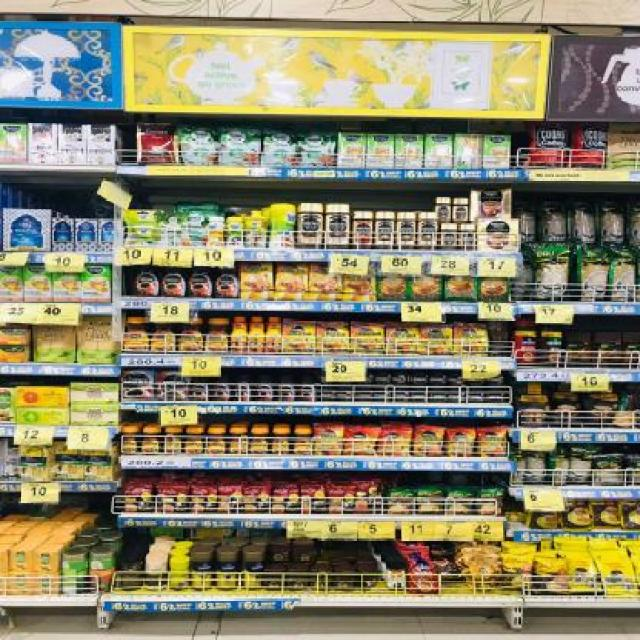Coffee: (239, 262, 273, 300), (275, 262, 308, 301), (309, 262, 342, 300), (342, 266, 376, 302), (298, 203, 324, 249), (283, 320, 315, 352), (387, 324, 419, 356), (326, 204, 349, 248), (151, 318, 178, 353), (317, 322, 348, 352), (124, 317, 150, 352), (456, 325, 486, 355), (352, 323, 383, 352), (420, 326, 452, 354), (378, 428, 410, 455), (179, 318, 204, 352), (123, 371, 152, 400), (158, 373, 190, 399), (414, 427, 443, 455), (133, 264, 158, 296), (316, 424, 342, 454), (160, 266, 186, 296), (215, 267, 239, 299), (479, 429, 506, 457), (346, 428, 374, 454), (396, 212, 416, 248), (189, 268, 213, 298), (206, 320, 228, 352), (448, 429, 474, 456), (375, 212, 394, 248), (418, 212, 437, 248), (230, 317, 247, 354), (265, 316, 281, 353), (292, 428, 313, 454), (249, 316, 263, 352), (228, 429, 248, 454), (163, 428, 182, 454), (439, 224, 458, 250), (212, 376, 232, 400), (206, 429, 225, 454), (142, 428, 160, 454), (272, 428, 290, 454), (184, 429, 203, 453), (251, 429, 269, 454), (297, 376, 315, 401), (459, 225, 476, 250), (233, 375, 250, 400), (121, 428, 137, 454), (436, 197, 452, 223), (452, 198, 468, 224), (256, 376, 273, 400), (278, 376, 294, 401), (192, 377, 208, 400), (354, 389, 374, 400), (392, 390, 410, 401), (450, 373, 466, 385), (488, 374, 504, 386), (430, 374, 448, 384), (337, 388, 352, 400), (412, 373, 428, 384), (450, 391, 466, 402), (429, 392, 448, 401), (375, 372, 391, 382), (411, 392, 427, 402), (321, 388, 334, 400), (393, 373, 407, 384), (486, 393, 505, 401), (468, 392, 483, 402), (374, 391, 389, 400), (455, 248, 456, 249)
